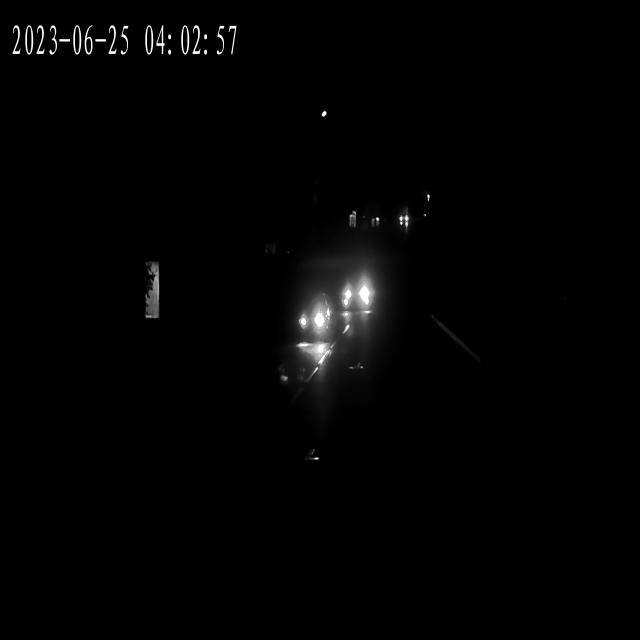Car: (334, 266, 379, 317), (292, 303, 331, 339), (393, 214, 407, 229)
